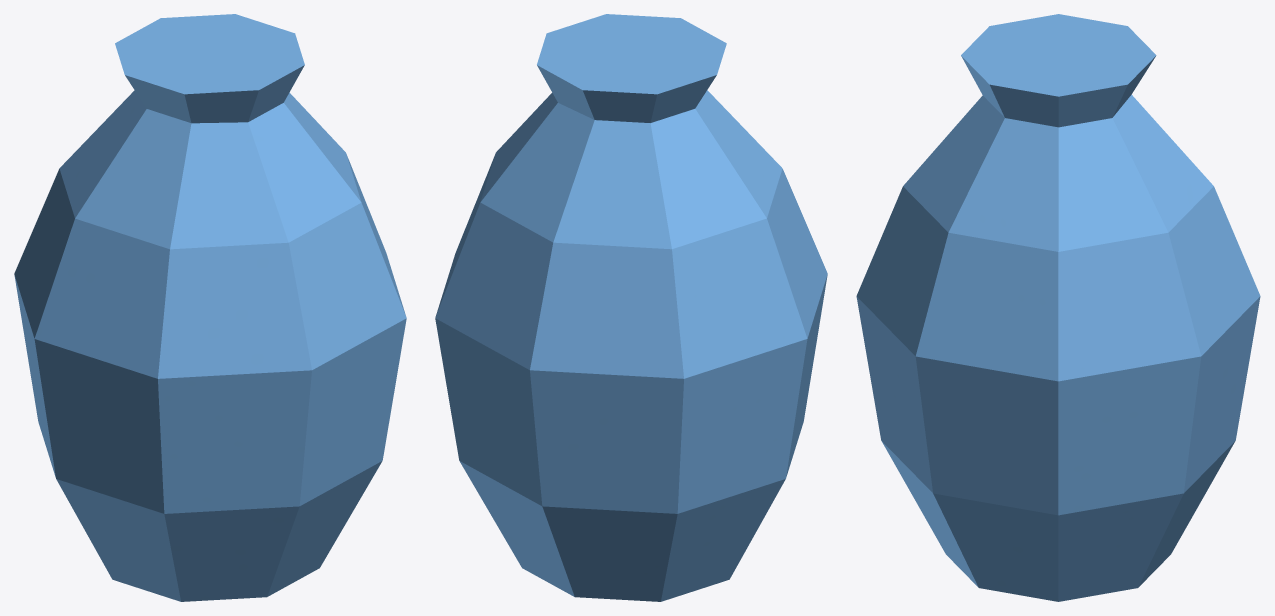
Rendered from jfdx_gz2.FBX.
The picture shows the model from 3 angles, left to right: view 1: azimuth 30°, elevation 25°; view 2: azimuth 150°, elevation 25°; view 3: azimuth 270°, elevation 25°; orthographic projection.
Visible parts, largest first — view 1: jfdx_gz2; view 2: jfdx_gz2; view 3: jfdx_gz2.
Part boxes in pixels (x1,y1,x2,y2): jfdx_gz2: (14,14,406,601); jfdx_gz2: (435,14,827,601); jfdx_gz2: (856,14,1260,601).
Size of the model in its own units: 0.5639 by 0.7681 by 0.5639.
